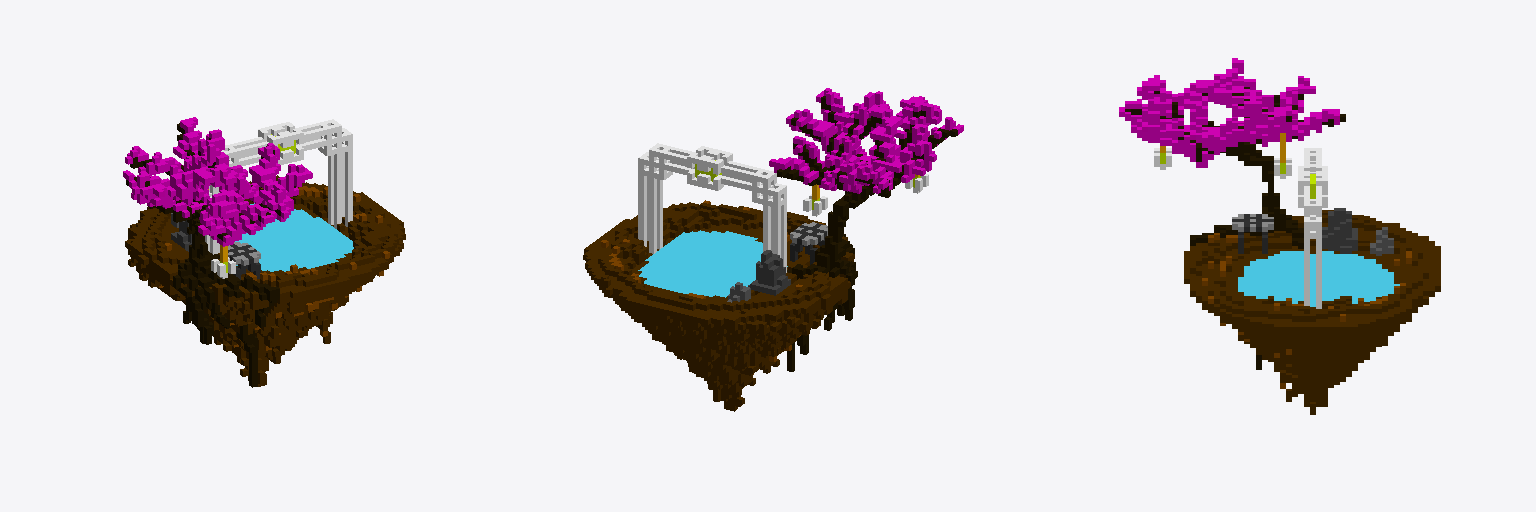
3 views of the same model, side by side, from view 1: azimuth 30°, elevation 25°; view 2: azimuth 150°, elevation 25°; view 3: azimuth 270°, elevation 25° (orthographic).
Visible parts, largest first — view 1: object 1; view 2: object 1; view 3: object 1.
Part boxes in pixels (x1,y1,x2,y2): object 1: (123, 117, 405, 387); object 1: (583, 88, 963, 411); object 1: (1119, 58, 1440, 414).
Bounding box in the file's own units: 5.6 × 5.4 × 5.4.
1 materials, 1 textured.